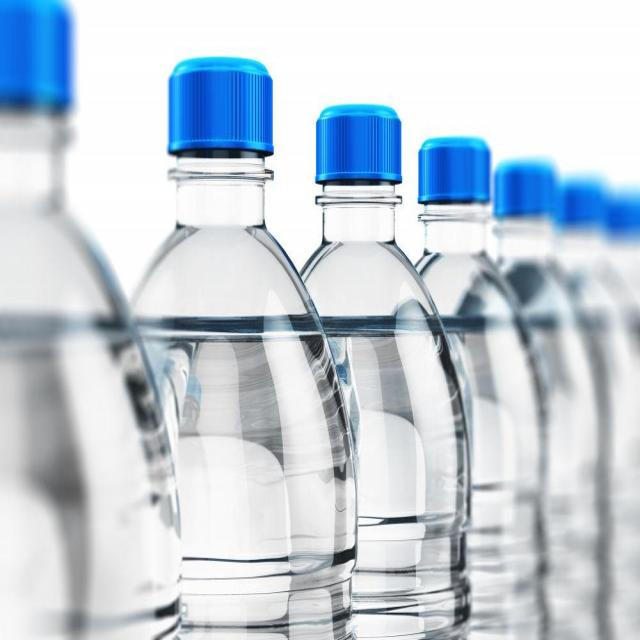plastic_bottle: (134, 41, 358, 640), (1, 1, 186, 640), (294, 95, 475, 640)
